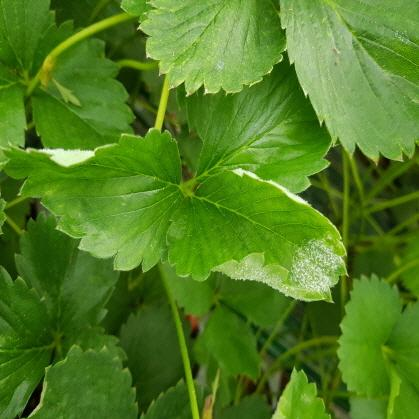Powdery Mildew Leaf: (0, 127, 187, 273), (164, 167, 348, 303)
